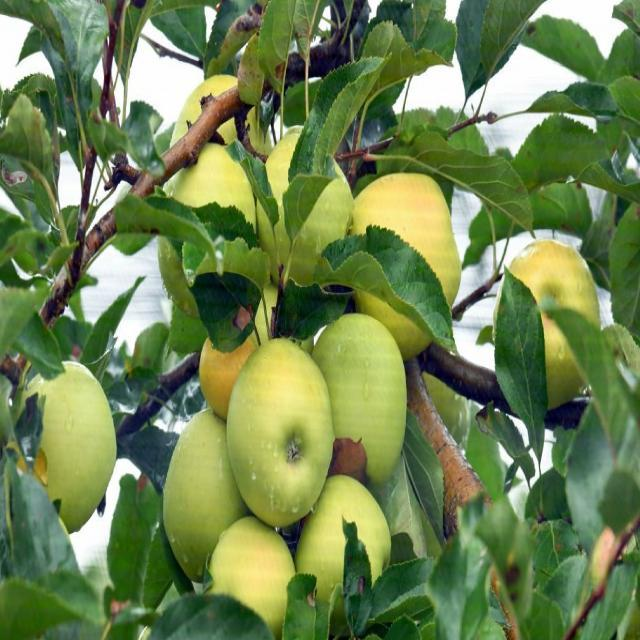Green Apple: (307, 301, 404, 479), (355, 171, 457, 335), (231, 337, 327, 510), (23, 357, 114, 521), (504, 241, 596, 400), (172, 138, 254, 306), (205, 503, 302, 640), (261, 126, 350, 275), (299, 468, 385, 621), (164, 402, 239, 566), (173, 72, 261, 181), (198, 299, 264, 406)
